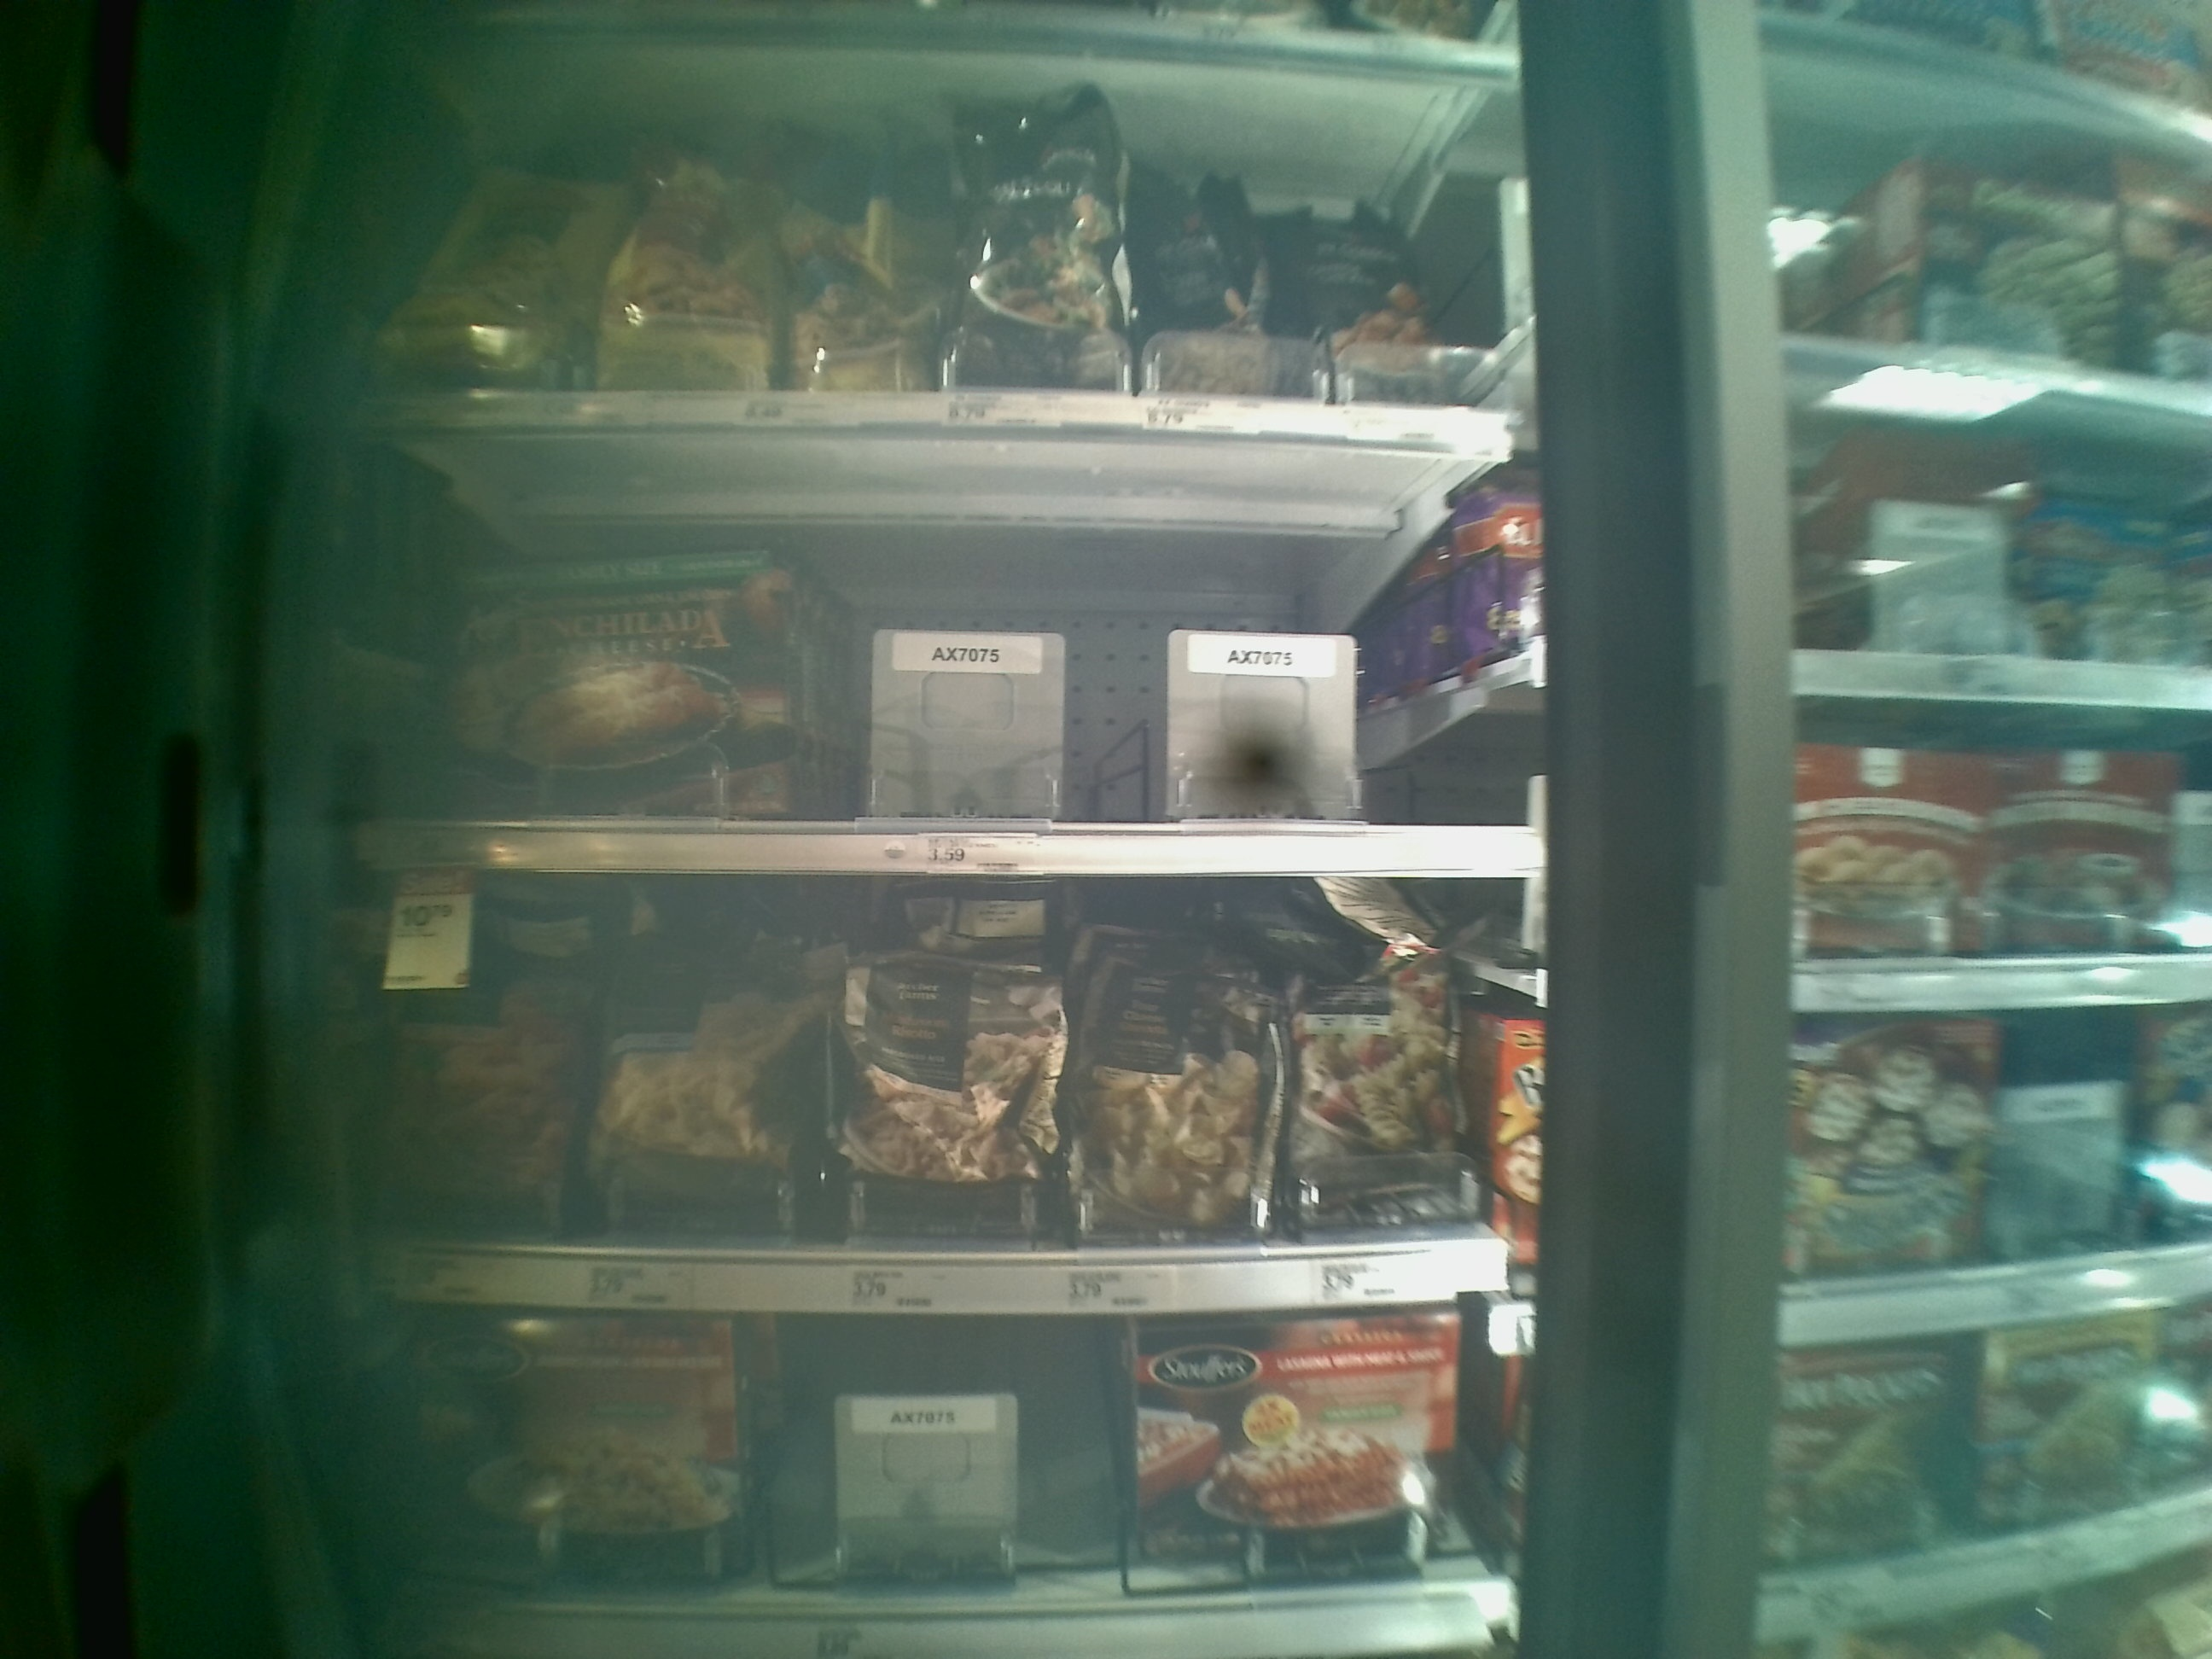shelf: (385, 439, 1526, 890), (380, 878, 1515, 1302), (380, 30, 1503, 453), (387, 1302, 1519, 1659)
